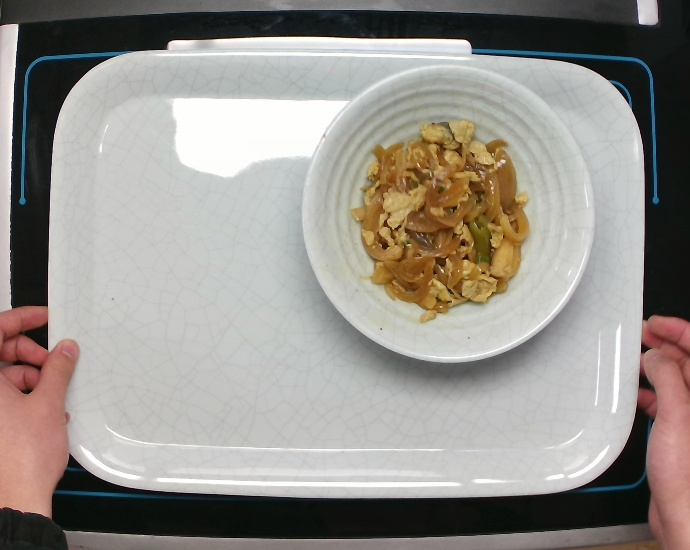JYsf-Xiao_Tang_Wan: (301, 61, 599, 370)
